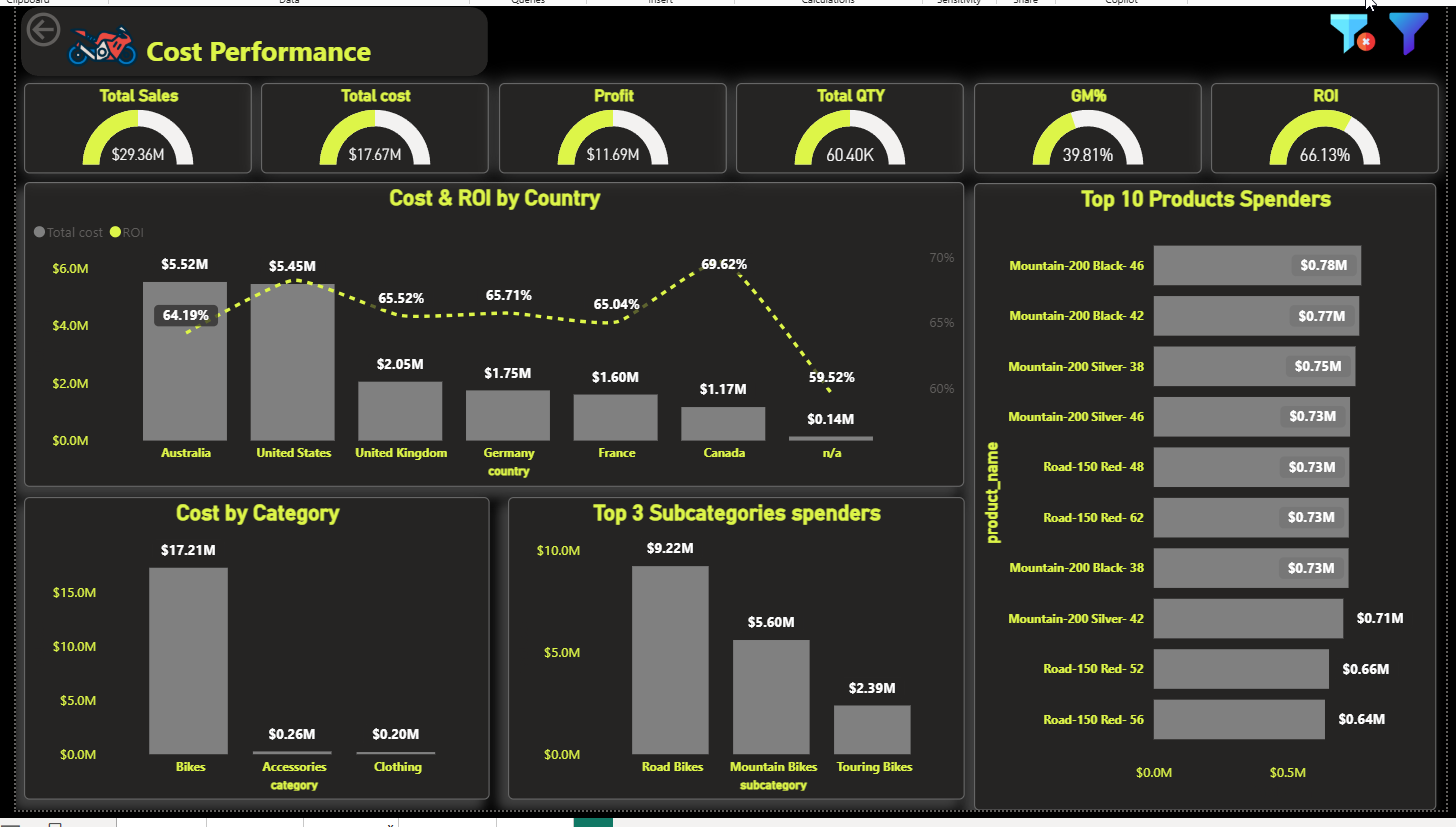

This screenshot's page, from the dashboard's own definition file:
{"tool":"powerbi","page":{"name":"Cost Page","canvas":[1280,720],"ordinal":2},"visuals":[{"type":"clusteredBarChart","title":"Top 10 Products Spenders","fields":{"Category":["gold report_products.product_name"],"Y":["CALC.Total cost"]},"box":[857.5,158.3,414.1,561.9],"z":2000},{"type":"lineStackedColumnComboChart","title":"Cost & ROI by Country","fields":{"Category":["gold report_customers.country"],"Y":["CALC.Total cost"],"Y2":["CALC.ROI"]},"box":[7.3,157.2,841.8,272.6],"z":3000},{"type":"shape","box":[4.5,0.9,418.4,61.8],"z":4000,"group":"g1"},{"type":"columnChart","title":"Top 3 Subcategories spenders","fields":{"Category":["gold report_products.subcategory"],"Y":["CALC.Total cost"]},"box":[440.6,439.6,408.5,271.4],"z":4000},{"type":"image","box":[24.5,0,104.1,77],"z":5000,"group":"g1"},{"type":"columnChart","title":"Cost by Category","fields":{"Y":["CALC.Total cost"],"Category":["gold report_products.category"]},"box":[6.8,439.6,417.3,271.4],"z":5000},{"type":"gauge","fields":{"Y":["CALC.Total Sales"]},"box":[7.2,69,204.2,81.5],"z":6000},{"type":"textbox","box":[111.6,17.9,226.2,46.6],"z":6500,"group":"g1"},{"type":"gauge","fields":{"Y":["CALC.Total cost"]},"box":[219.8,69,204.2,81.5],"z":7000},{"type":"gauge","fields":{"Y":["CALC.Profit"]},"box":[432.4,69,204.2,81.5],"z":8000},{"type":"gauge","fields":{"Y":["CALC.Total QTY"]},"box":[645,69,204.2,81.5],"z":9000},{"type":"gauge","title":"GM%","fields":{"Y":["CALC.Gross margin"]},"box":[857.6,69,204.2,81.5],"z":10000},{"type":"gauge","fields":{"Y":["CALC.ROI"]},"box":[1070.1,69,204.2,81.5],"z":11000},{"type":"image","box":[1172.2,0,50.1,50.1],"z":12000},{"type":"image","box":[1222.4,0,50.1,50.1],"z":13000},{"type":"actionButton","box":[4.5,0.9,43.9,40.3],"z":18000,"group":"g1"},{"type":"group","id":"g1","title":"Group 3","box":[4.5,0,418.4,77],"z":18002}]}

Visuals, with their boxes on the page's 1280x720 design canvas (x1, y1, x2, y2). These are canvas units, not pixel positions in the 1456x827 screenshot, which may show the page scaled, cropped or inside an application window:
"Top 10 Products Spenders" clusteredBarChart: 858:158:1272:720
"Cost & ROI by Country" lineStackedColumnComboChart: 7:157:849:430
shape: 4:1:423:63
"Top 3 Subcategories spenders" columnChart: 441:440:849:711
image: 24:0:129:77
"Cost by Category" columnChart: 7:440:424:711
gauge - CALC.Total Sales: 7:69:211:150
textbox: 112:18:338:64
gauge - CALC.Total cost: 220:69:424:150
gauge - CALC.Profit: 432:69:637:150
gauge - CALC.Total QTY: 645:69:849:150
"GM%" gauge: 858:69:1062:150
gauge - CALC.ROI: 1070:69:1274:150
image: 1172:0:1222:50
image: 1222:0:1272:50
actionButton: 4:1:48:41
"Group 3" group: 4:0:423:77
